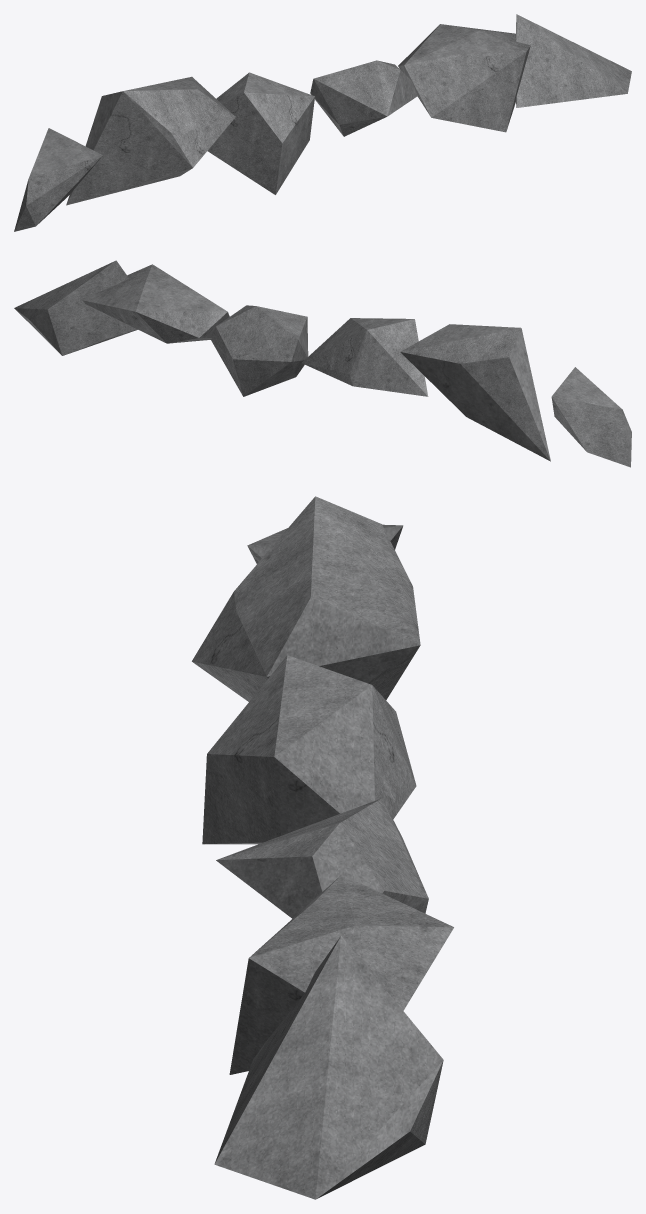
Rendered from Rubble_Pieces.glb.
The picture shows the model from 3 angles, top to bottom: view 1: azimuth 30°, elevation 25°; view 2: azimuth 150°, elevation 25°; view 3: azimuth 270°, elevation 25°; orthographic projection. The views are drawn at different scales.
Parts seen in each view (by area): view 1: Rubble_2, Rubble_5, Rubble_3, Rubble_6, Rubble_4, Rubble_1; view 2: Rubble_2, Rubble_3, Rubble_5, Rubble_4, Rubble_6, Rubble_1; view 3: Rubble_6, Rubble_2, Rubble_3, Rubble_5, Rubble_4.
Part boxes in pixels (x1=…): Rubble_2: x1=66, y1=76, x2=235, y2=205; Rubble_5: x1=398, y1=24, x2=530, y2=132; Rubble_3: x1=207, y1=72, x2=314, y2=194; Rubble_6: x1=515, y1=14, x2=631, y2=107; Rubble_4: x1=310, y1=60, x2=417, y2=136; Rubble_1: x1=14, y1=128, x2=102, y2=231; Rubble_2: x1=400, y1=324, x2=550, y2=461; Rubble_3: x1=302, y1=318, x2=428, y2=396; Rubble_5: x1=82, y1=264, x2=229, y2=343; Rubble_4: x1=210, y1=305, x2=308, y2=396; Rubble_6: x1=14, y1=260, x2=137, y2=355; Rubble_1: x1=551, y1=367, x2=631, y2=467; Rubble_6: x1=214, y1=936, x2=443, y2=1199; Rubble_2: x1=192, y1=496, x2=420, y2=701; Rubble_3: x1=202, y1=655, x2=416, y2=844; Rubble_5: x1=229, y1=875, x2=453, y2=1074; Rubble_4: x1=216, y1=798, x2=428, y2=918.
Bounding box in the file's own units: 4.27 × 0.7504 × 0.7874.
1 material, 1 textured.
